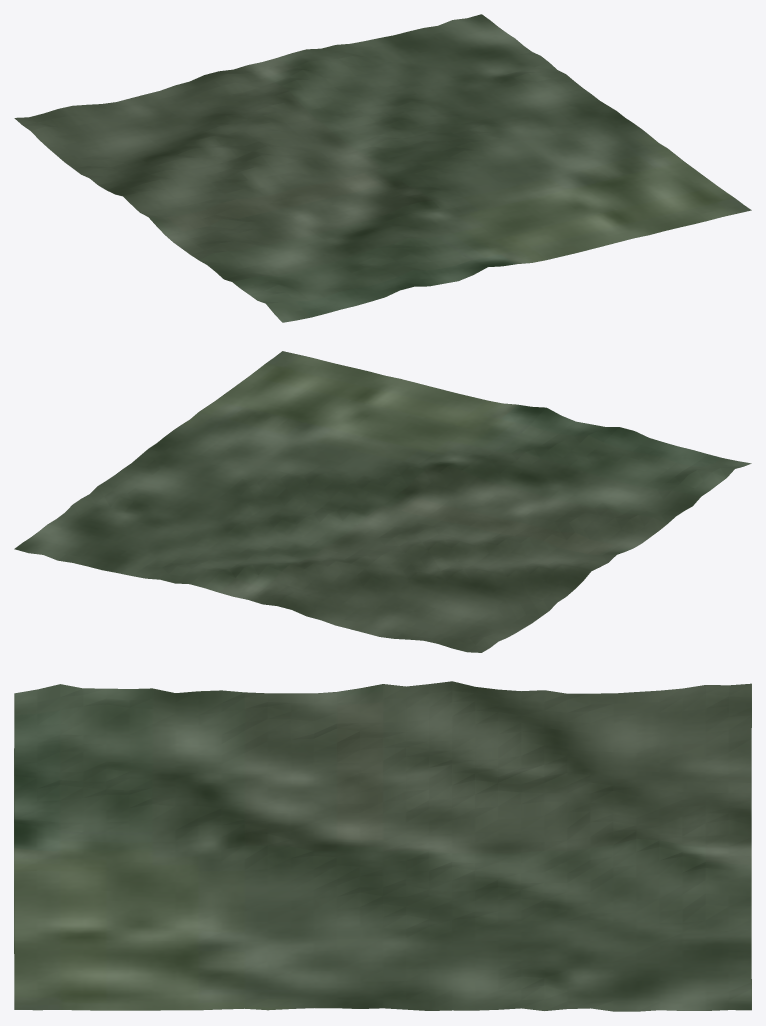
3 renders of one model, top to bottom at view 1: azimuth 30°, elevation 25°; view 2: azimuth 150°, elevation 25°; view 3: azimuth 270°, elevation 25°, orthographic. The views are drawn at different scales.
Bounding box in the file's own units: 31114 × 864 × 30942.
1 material, 1 textured.
